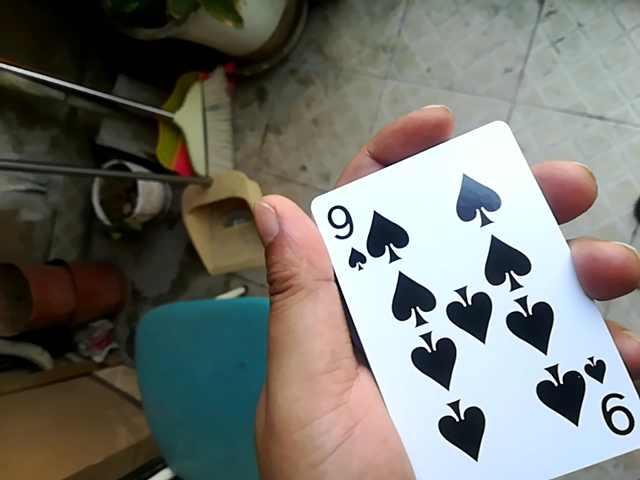ht 9: (302, 116, 634, 479)
